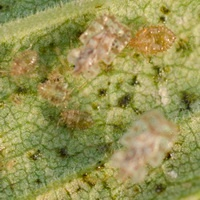insect: (67, 14, 130, 78), (129, 25, 175, 54)
